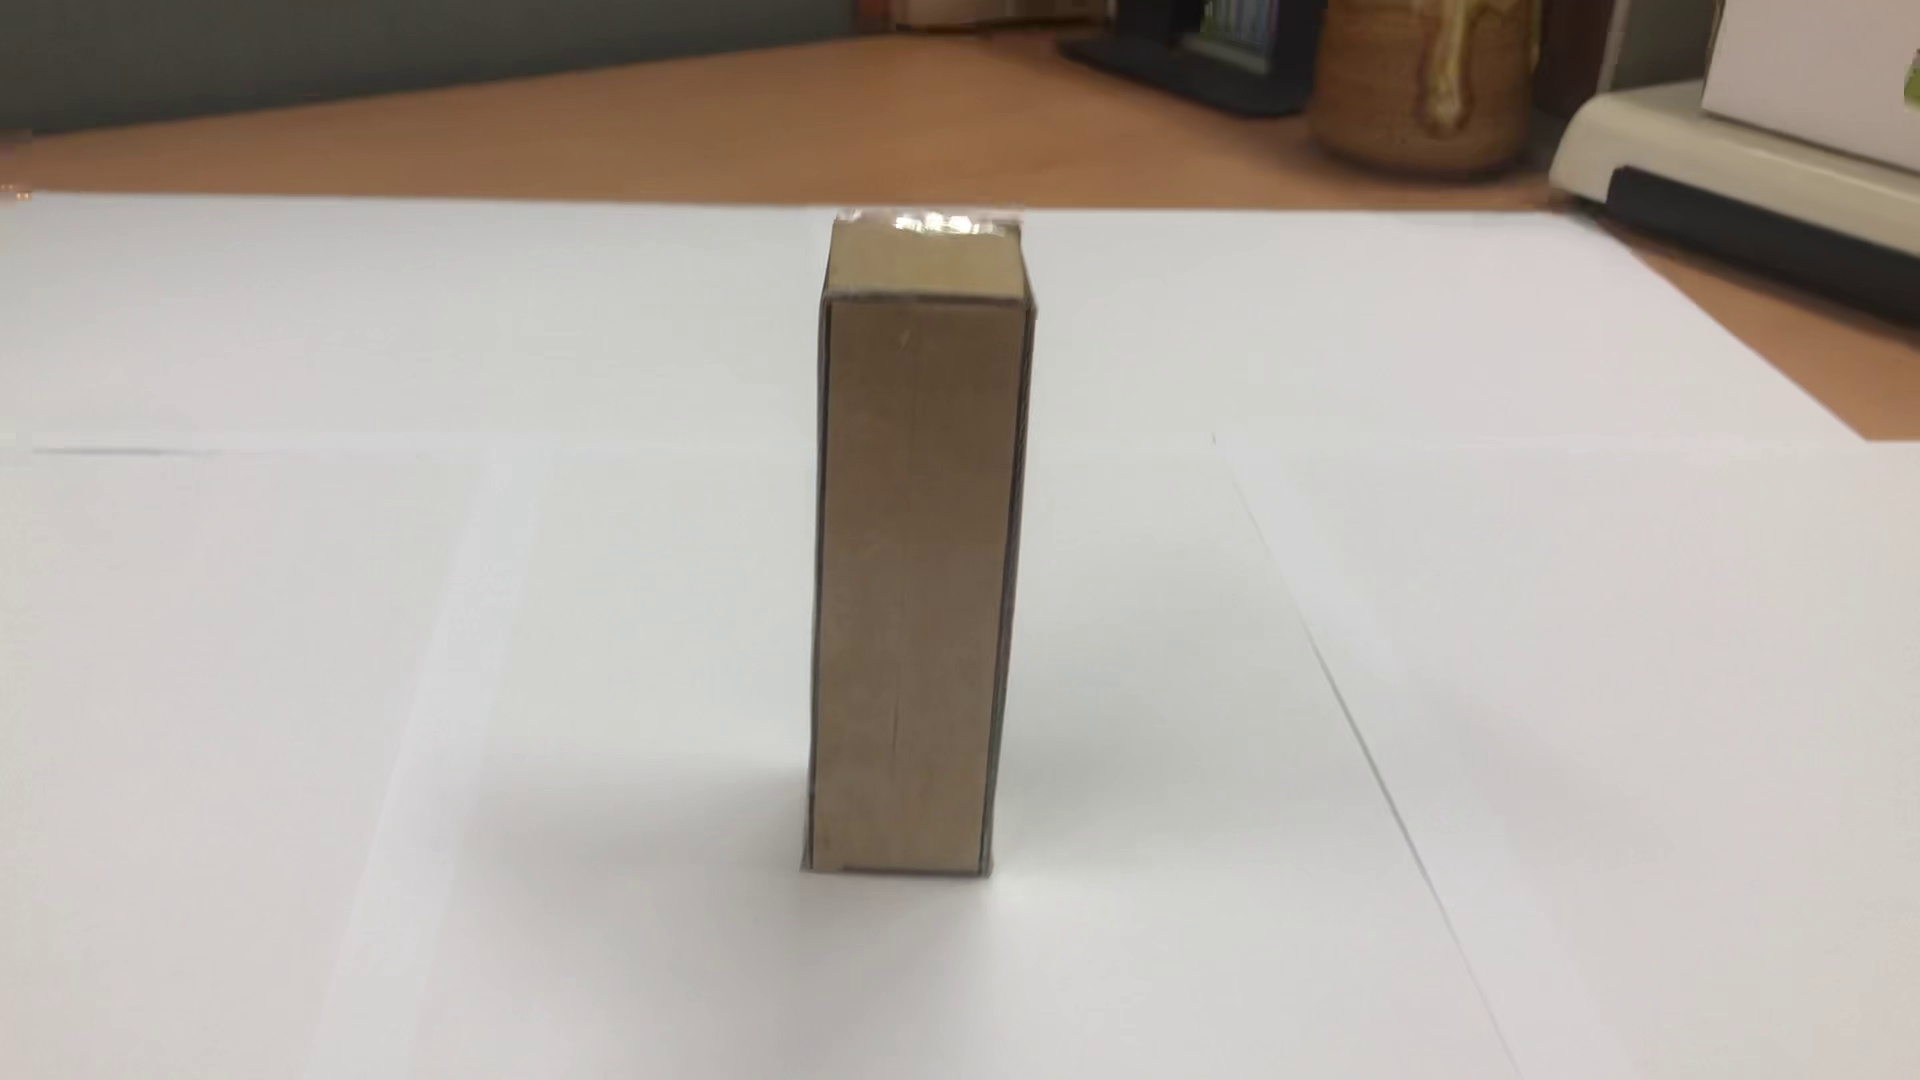box: (705, 206, 1122, 898)
